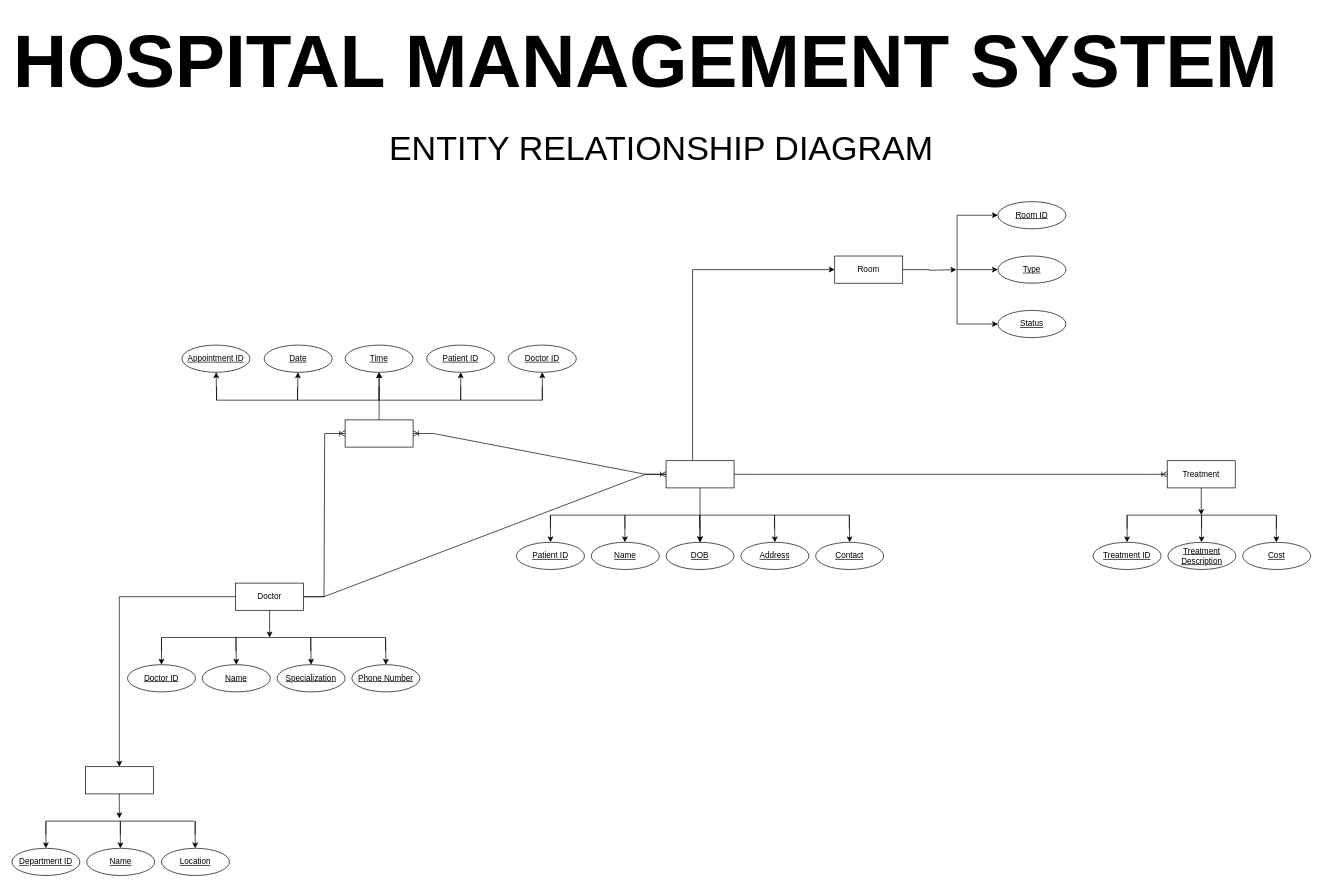
Some shapes in this 1329 by 893 pixel diagram are drawn without their labels. Here are the shapes that lost their labels. From the top down, the centre of each, then its label:
the point at 378,433: Appointment
the point at 699,474: Patient
the point at 119,780: Department
